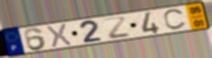2: (78, 19, 105, 44)
4: (141, 10, 162, 35)
6: (23, 27, 47, 53)
C: (162, 8, 187, 31)
X: (45, 22, 73, 49)
Z: (103, 16, 132, 40)
